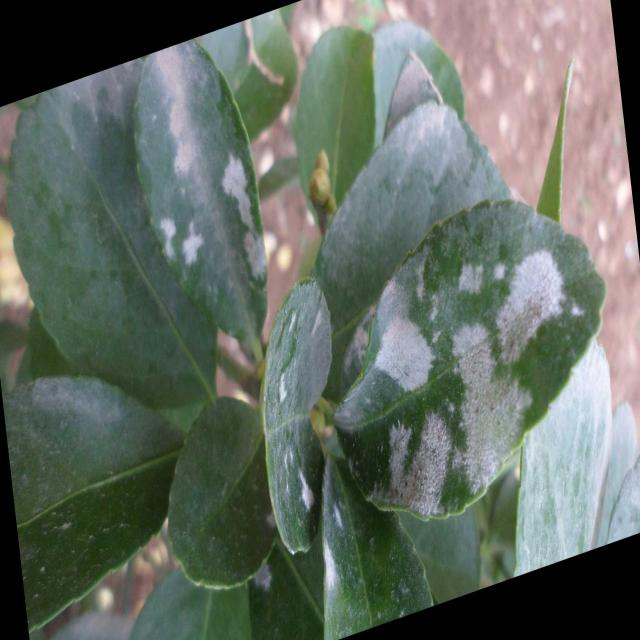Powdery Mildew: (332, 195, 606, 522)
